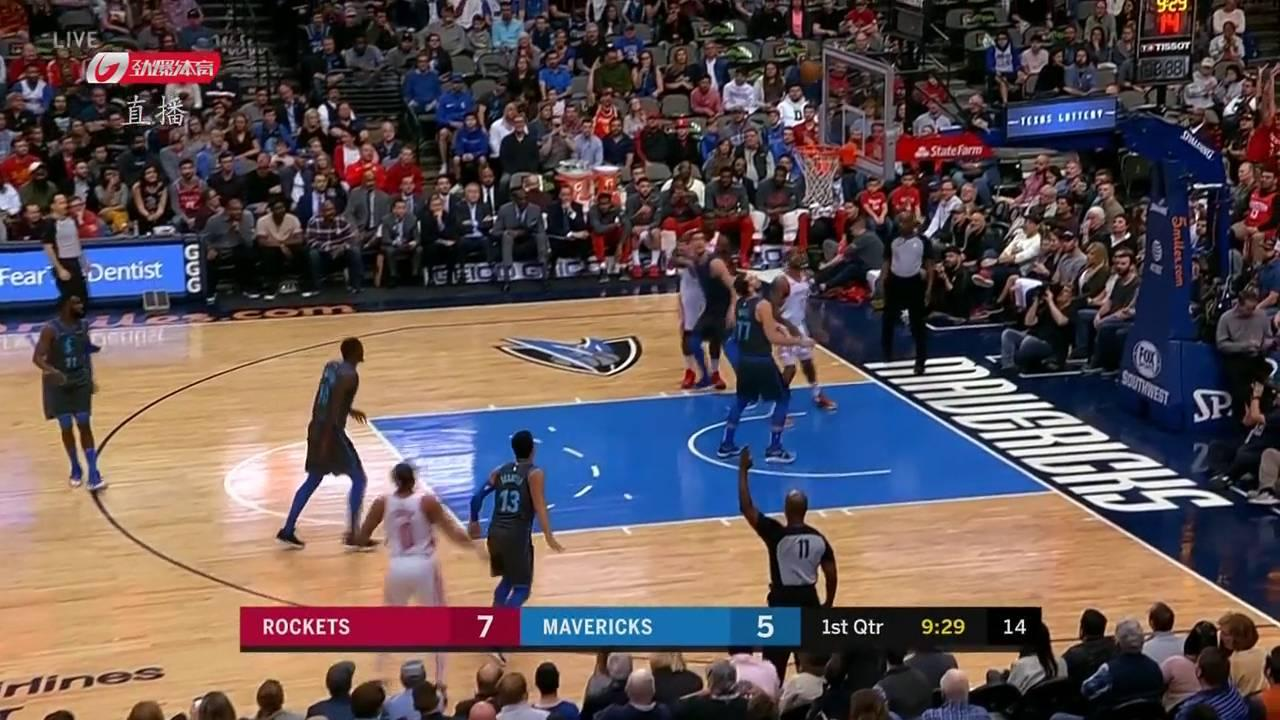basketball: (798, 60, 822, 85)
